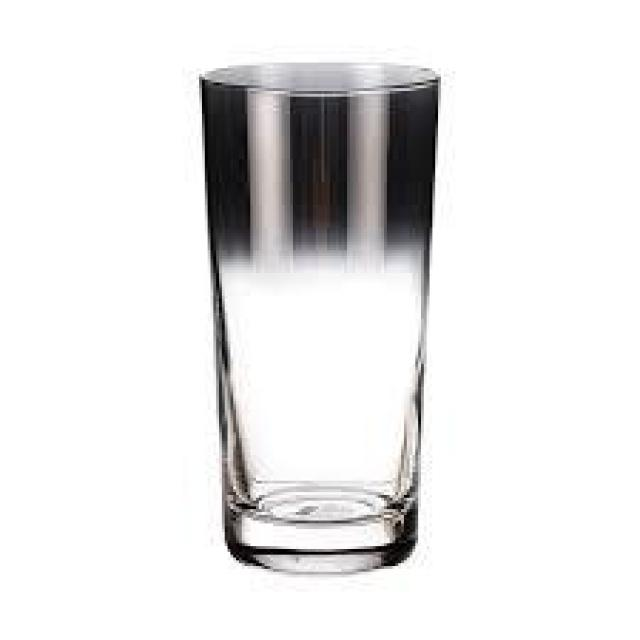non-organic waste: (196, 59, 444, 572)
